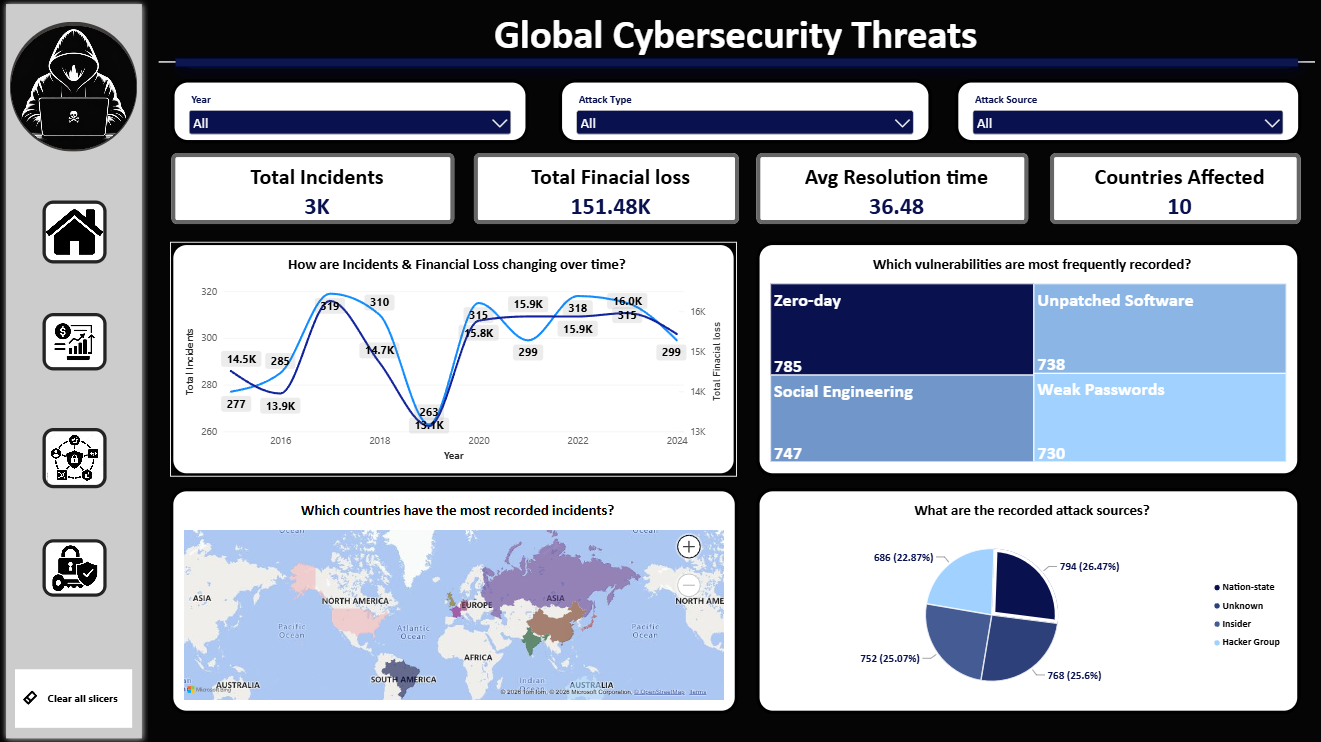

What the dashboard file says about the page in this screenshot:
{"tool":"powerbi","page":{"name":"Global Cybersecurity Overview","canvas":[1920,1080],"ordinal":0},"visuals":[{"type":"textbox","box":[246.4,16.2,1637.7,86.8],"z":0},{"type":"shape","box":[0,0,214.1,1080.6],"z":1000},{"type":"shape","box":[230.4,80.9,1673.8,22.2],"z":2000},{"type":"image","box":[60.6,293.1,93,91],"z":3000},{"type":"shape","box":[230.4,64.7,1673.8,56.6],"z":4000},{"type":"image","box":[60.6,456.9,93,82.9],"z":5000},{"type":"image","box":[60.6,622.6,93,86.9],"z":6000},{"type":"image","box":[60.6,784.3,93,82.9],"z":7000},{"type":"slicer","fields":{"Values":["Global_Cybersecurity_Threats_20.Year"]},"box":[248.6,117.2,517.5,93],"z":8000},{"type":"slicer","fields":{"Values":["Table1.Attack Type"]},"box":[808.6,117.2,539.7,93],"z":9000},{"type":"slicer","fields":{"Values":["Global_Cybersecurity_Threats_20.Attack Source"]},"box":[1382.7,117.2,501.3,93],"z":10000},{"type":"actionButton","box":[22.2,972.3,169.8,84.9],"z":11000},{"type":"cardVisual","fields":{"Data":["Measure.Total Incidents"]},"box":[248.6,224.4,410.4,103.1],"z":12000},{"type":"cardVisual","fields":{"Data":["Measure.Total Finacial loss"]},"box":[685.3,224.4,384.1,103.1],"z":13000},{"type":"cardVisual","fields":{"Data":["Measure.Avg Resolution time"]},"box":[1095.6,224.4,394.2,103.1],"z":14000},{"type":"cardVisual","fields":{"Data":["Measure.Countries Affected"]},"box":[1520.2,224.4,363.9,103.1],"z":15000},{"type":"image","box":[14,34.9,183.7,188.4],"z":16000},{"type":"lineChart","title":"How are Incidents & Financial Loss changing over time?","fields":{"Category":["Global_Cybersecurity_Threats_20.Year"],"Y":["Measure.Total_Incidents"],"Y2":["Measure.Total_Finacial_loss"]},"box":[246.6,353.8,820.7,339.6],"z":17000},{"type":"treemap","title":"Which vulnerabilities are most frequently recorded?","fields":{"Group":["Global_Cybersecurity_Threats_20.Security Vulnerability Type"],"Values":["Measure.Total Incidents"]},"box":[1095.6,353.8,788.4,339.6],"z":18000},{"type":"pieChart","title":"What are the recorded attack sources?","fields":{"Category":["Global_Cybersecurity_Threats_20.Attack Source"],"Y":["Measure.Total Incidents"]},"box":[1095.6,709.5,788.4,327.5],"z":19000},{"type":"filledMap","title":"Which countries have the most recorded incidents?","fields":{"Category":["Global_Cybersecurity_Threats_20.Country"],"X":["Measure.Total Incidents"]},"box":[246.6,709.5,822.7,327.5],"z":20000}]}

Visuals, with their boxes in screenshot pixels (x1, y1, x2, y2), scaled from the page's 1920x1080 canvas onto the 1321x742 screenshot:
textbox: [x1=170, y1=11, x2=1296, y2=71]
shape: [x1=0, y1=0, x2=147, y2=741]
shape: [x1=159, y1=56, x2=1310, y2=71]
image: [x1=42, y1=201, x2=106, y2=264]
shape: [x1=159, y1=44, x2=1310, y2=83]
image: [x1=42, y1=314, x2=106, y2=371]
image: [x1=42, y1=428, x2=106, y2=487]
image: [x1=42, y1=539, x2=106, y2=596]
slicer - Global_Cybersecurity_Threats_20.Year: [x1=171, y1=81, x2=527, y2=144]
slicer - Table1.Attack Type: [x1=556, y1=81, x2=928, y2=144]
slicer - Global_Cybersecurity_Threats_20.Attack Source: [x1=951, y1=81, x2=1296, y2=144]
actionButton: [x1=15, y1=668, x2=132, y2=726]
cardVisual - Measure.Total Incidents: [x1=171, y1=154, x2=453, y2=225]
cardVisual - Measure.Total Finacial loss: [x1=472, y1=154, x2=736, y2=225]
cardVisual - Measure.Avg Resolution time: [x1=754, y1=154, x2=1025, y2=225]
cardVisual - Measure.Countries Affected: [x1=1046, y1=154, x2=1296, y2=225]
image: [x1=10, y1=24, x2=136, y2=153]
"How are Incidents & Financial Loss changing over time?" lineChart: [x1=170, y1=243, x2=734, y2=476]
"Which vulnerabilities are most frequently recorded?" treemap: [x1=754, y1=243, x2=1296, y2=476]
"What are the recorded attack sources?" pieChart: [x1=754, y1=487, x2=1296, y2=712]
"Which countries have the most recorded incidents?" filledMap: [x1=170, y1=487, x2=736, y2=712]
